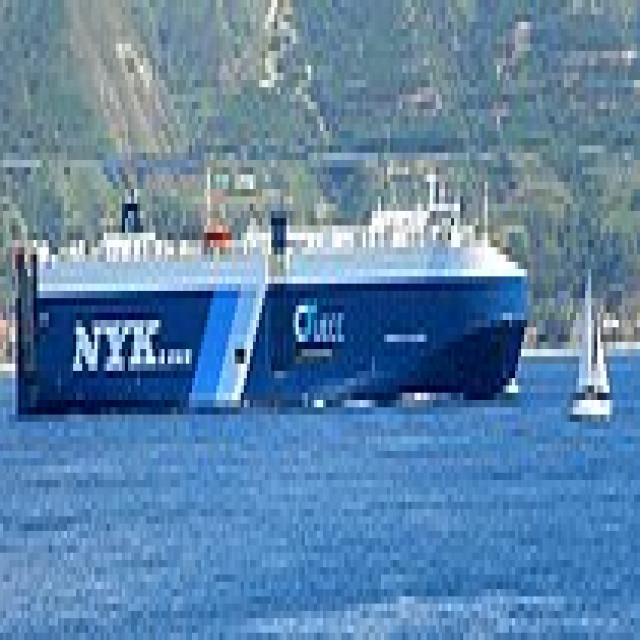Carrier: (9, 160, 530, 400)
